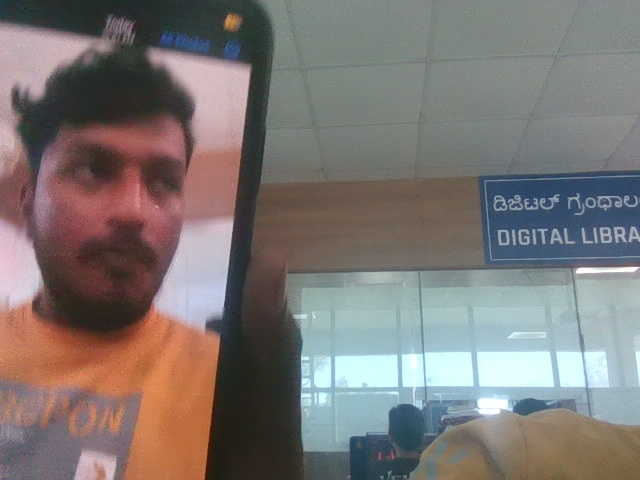fake: (8, 26, 224, 332)
